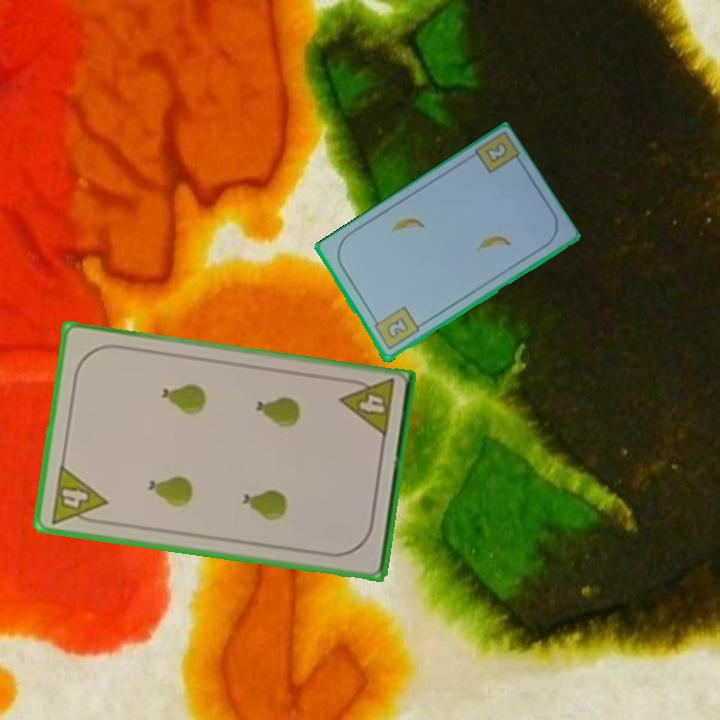2b: (369, 303, 422, 353), (484, 141, 508, 164)
4p: (47, 461, 110, 528), (337, 375, 398, 441)
